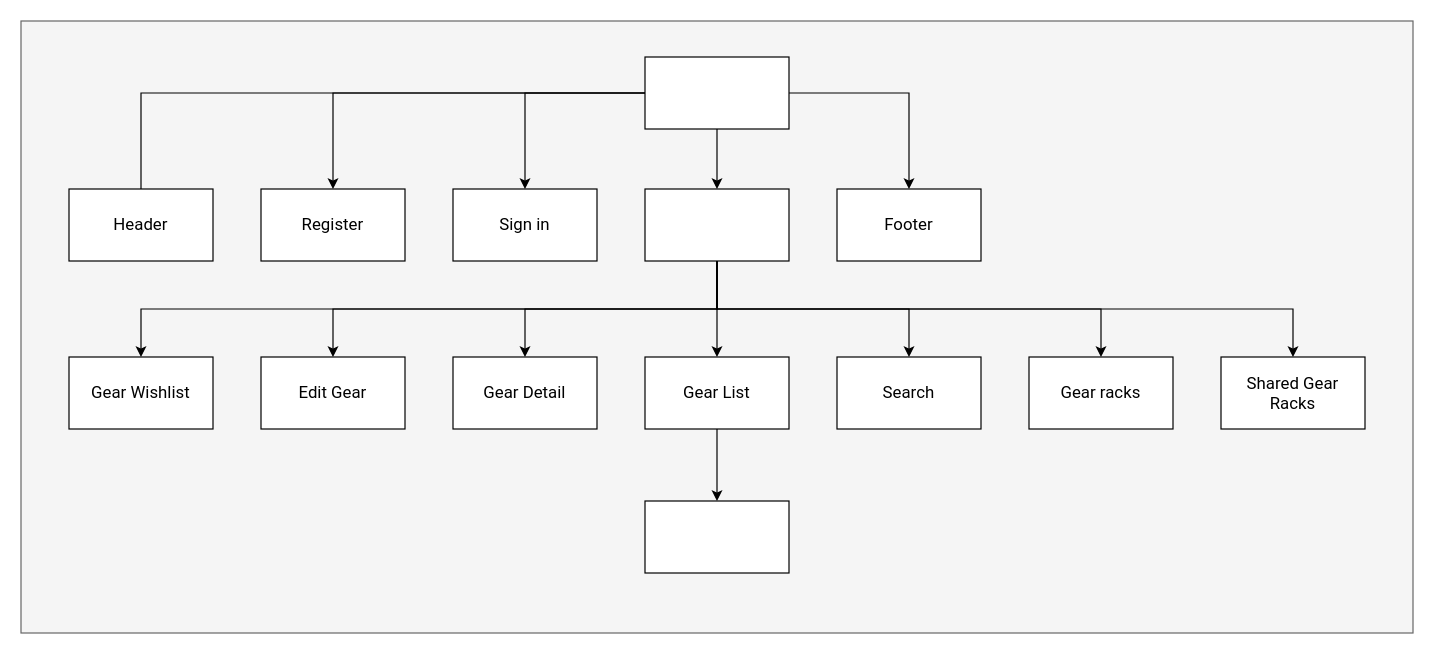
This 1434x654 diagram has some shape labels left out. The shapes that lost their labels are listed below. From the top down, each one's box as (x1, y1, x2, y2) in pixels, then its label:
(644, 56, 789, 129): App
(644, 188, 789, 261): Page Control
(644, 500, 789, 573): Gear
